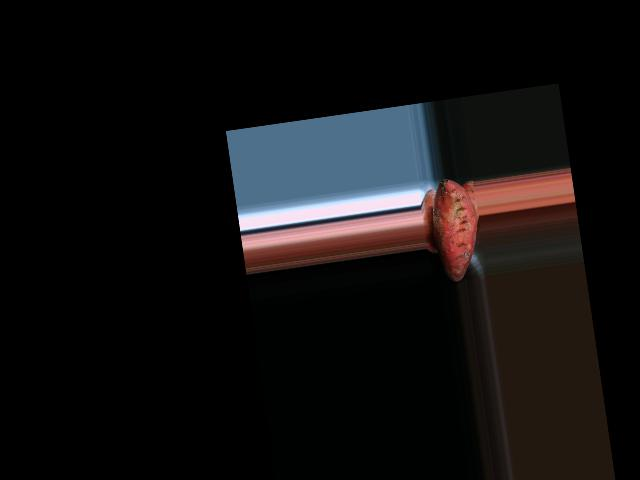sweet_potato: (430, 175, 481, 282)
